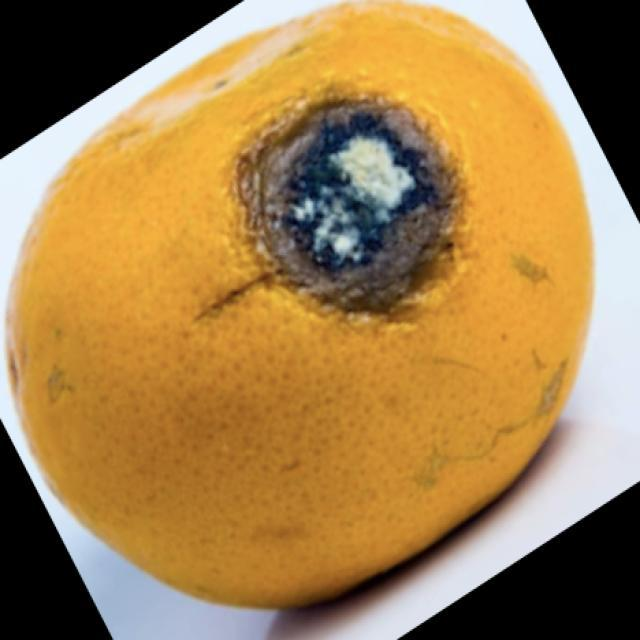sedikit-busuk: (11, 2, 591, 607), (240, 99, 456, 310)
